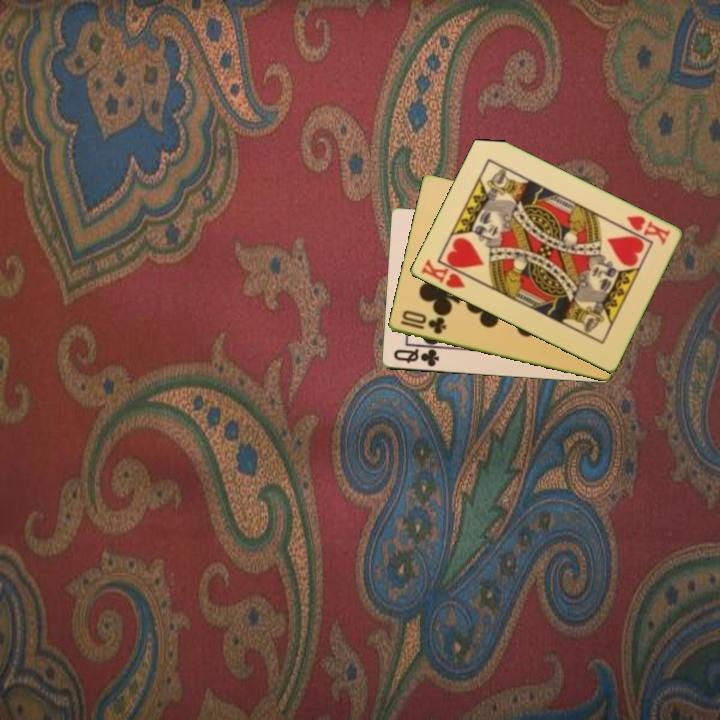10c: (396, 307, 449, 338)
Kh: (417, 256, 474, 291), (622, 212, 673, 248)
Qc: (390, 346, 441, 370)
